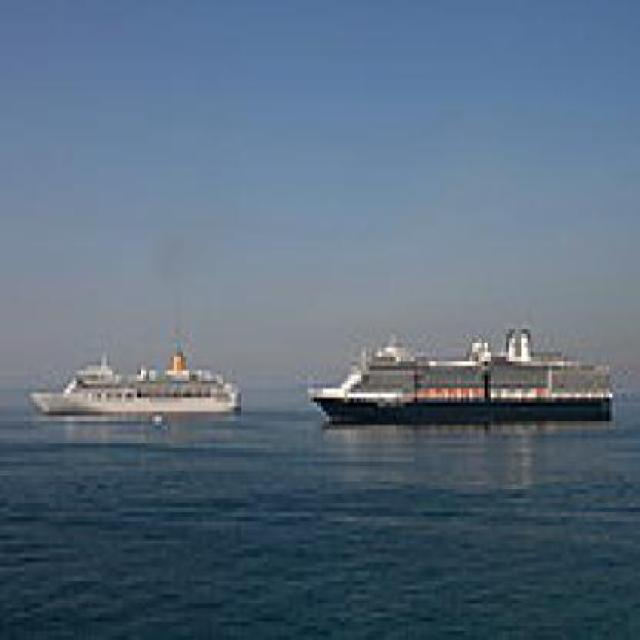cruise: (296, 325, 629, 436)
